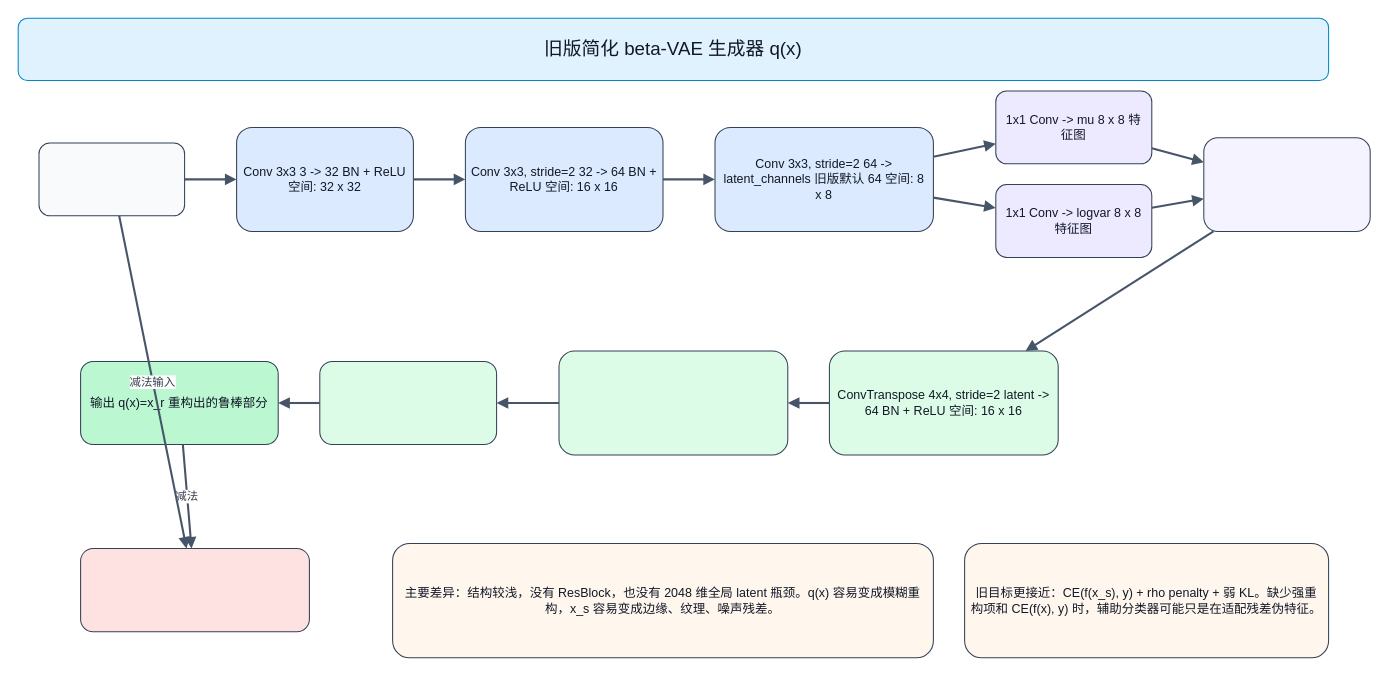
This 1388x676 diagram has some shape labels left out. Each missing label, with the centre of its shape:
"Conv 3x3 32 -> 3 Sigmoid" goes at [408,402].
"ConvTranspose 4x4, stride=2 64 -> 32 BN + ReLU 空间: 32 x 32" goes at [673,402].
"x_s = x - q(x) 上传共享的敏感残差" goes at [194,590].
"输入 x CIFAR-10: 3 x 32 x 32" goes at [111,179].
"重参数采样 z = mu + eps * std 局部 latent map" goes at [1286,184].
